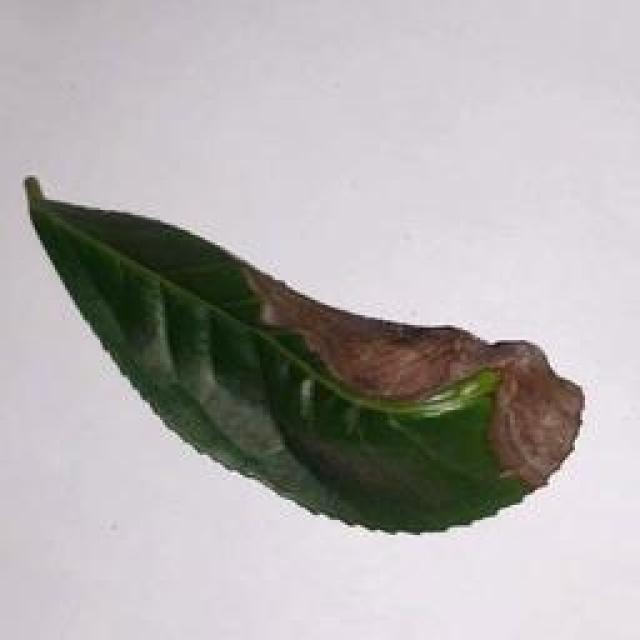Brown Blight: (15, 182, 587, 542)
